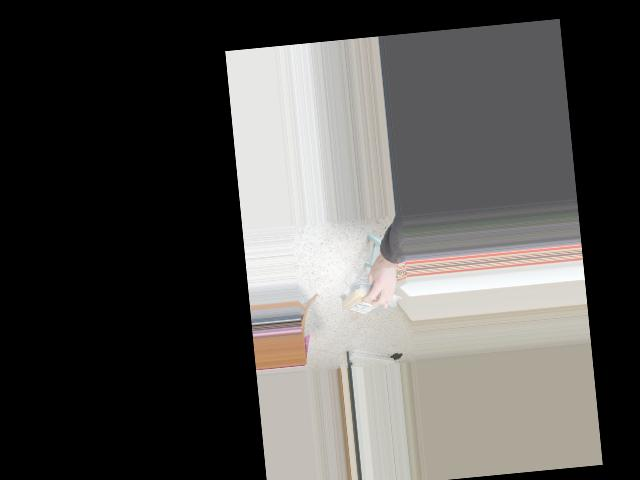cheese: (338, 283, 385, 317)
